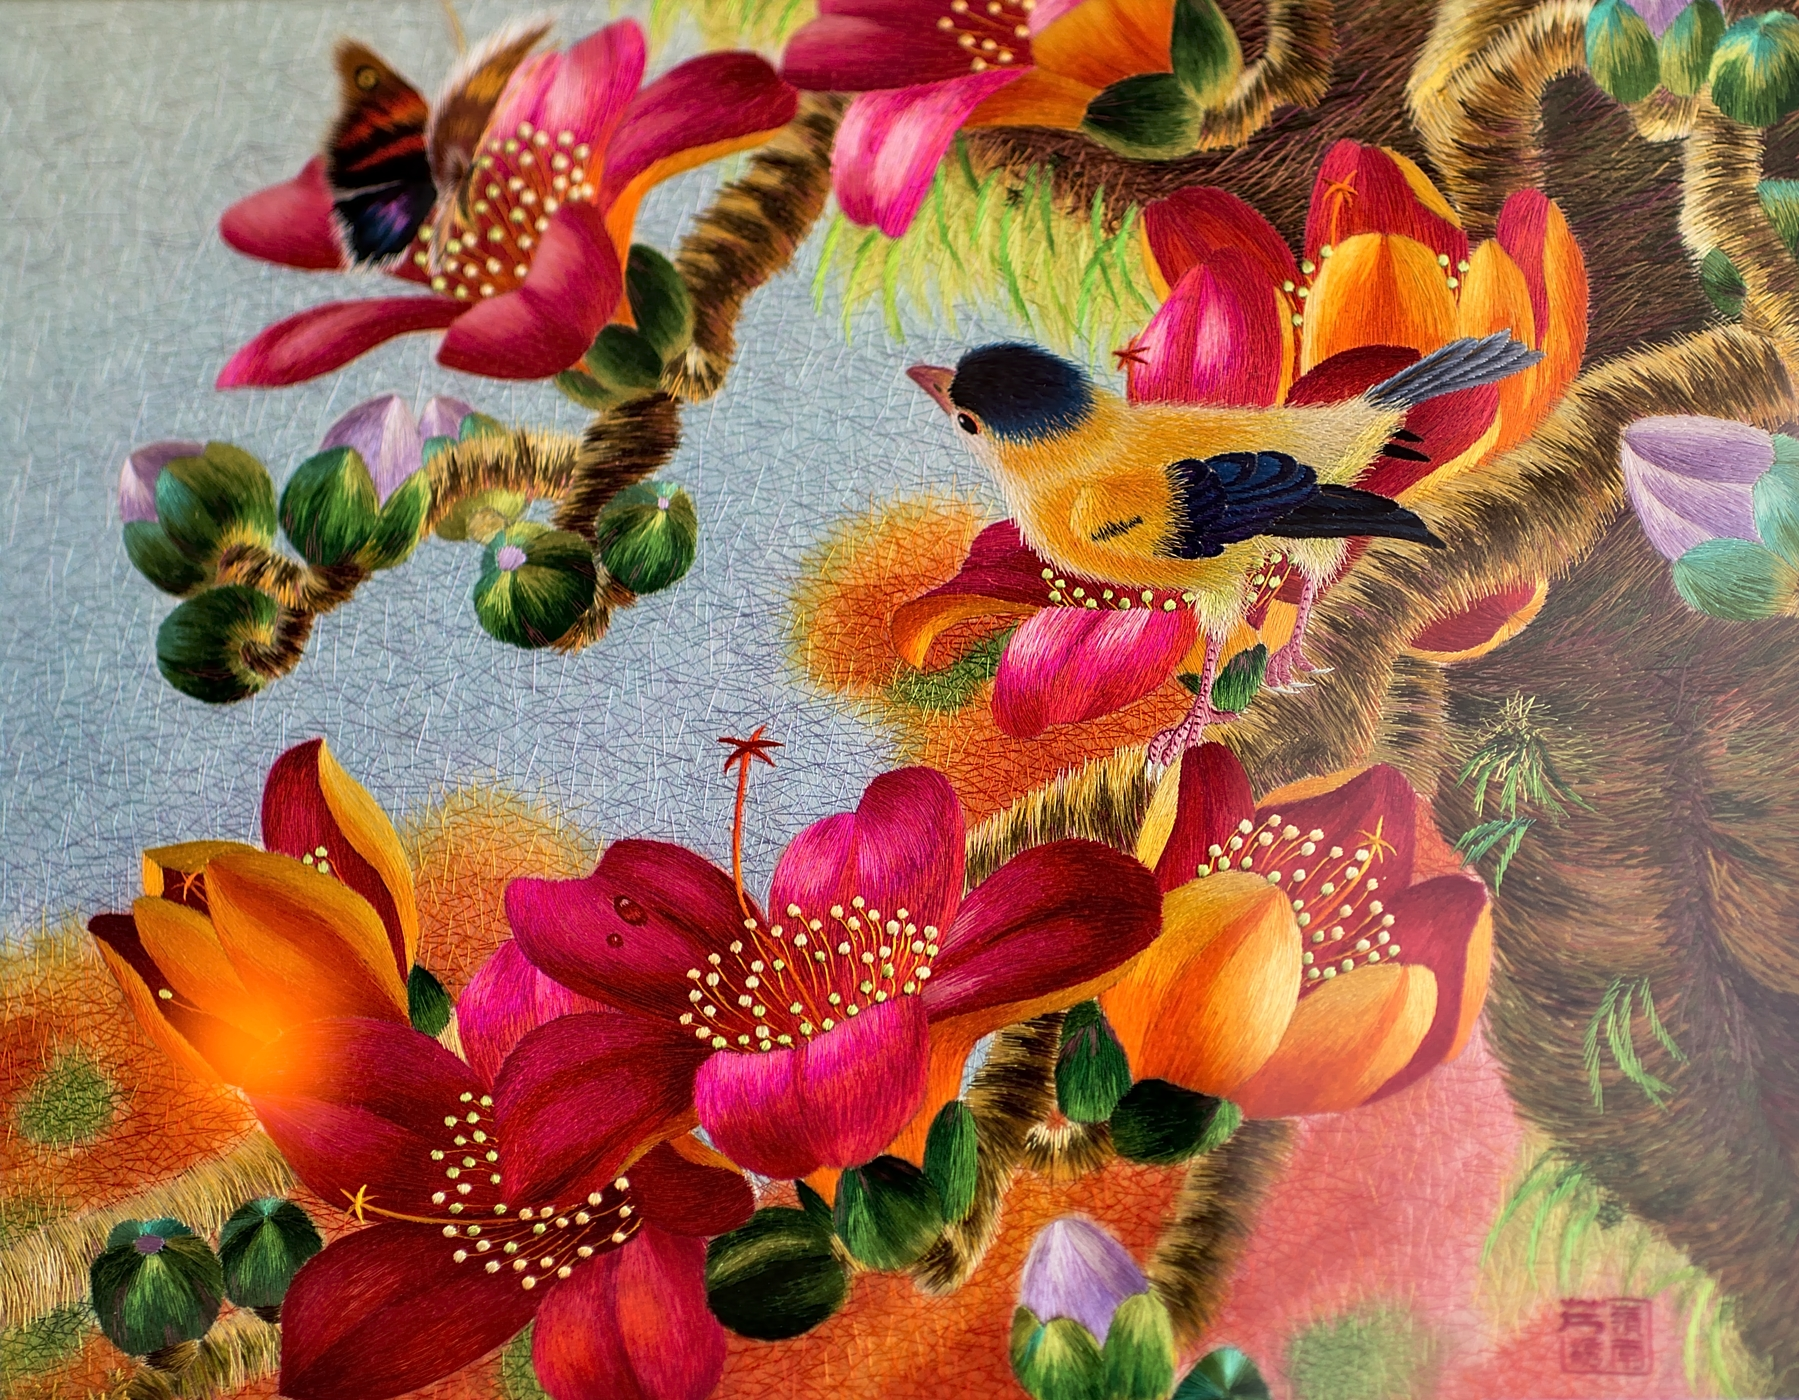bird: (905, 326, 1549, 777)
kapok: (488, 768, 1164, 1273), (888, 261, 1548, 739), (237, 930, 758, 1400), (210, 16, 797, 410), (1051, 740, 1492, 1169), (1130, 139, 1589, 473), (79, 739, 450, 1095), (786, 3, 1246, 239), (115, 444, 302, 696), (1614, 410, 1799, 620), (1008, 1210, 1178, 1400), (279, 388, 429, 577)
